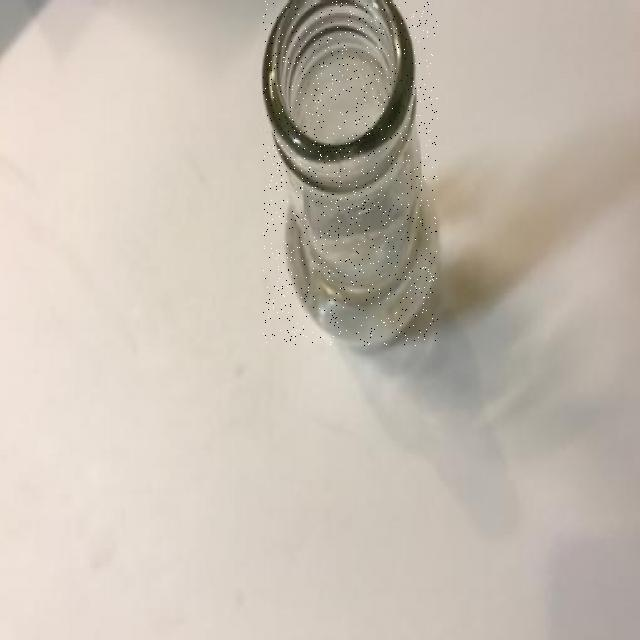glass: (264, 1, 438, 345)
